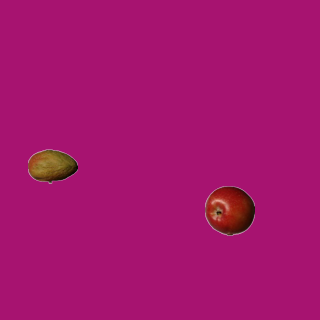Apple Braeburn: (204, 185, 254, 235)
Papaya: (27, 141, 77, 191)
